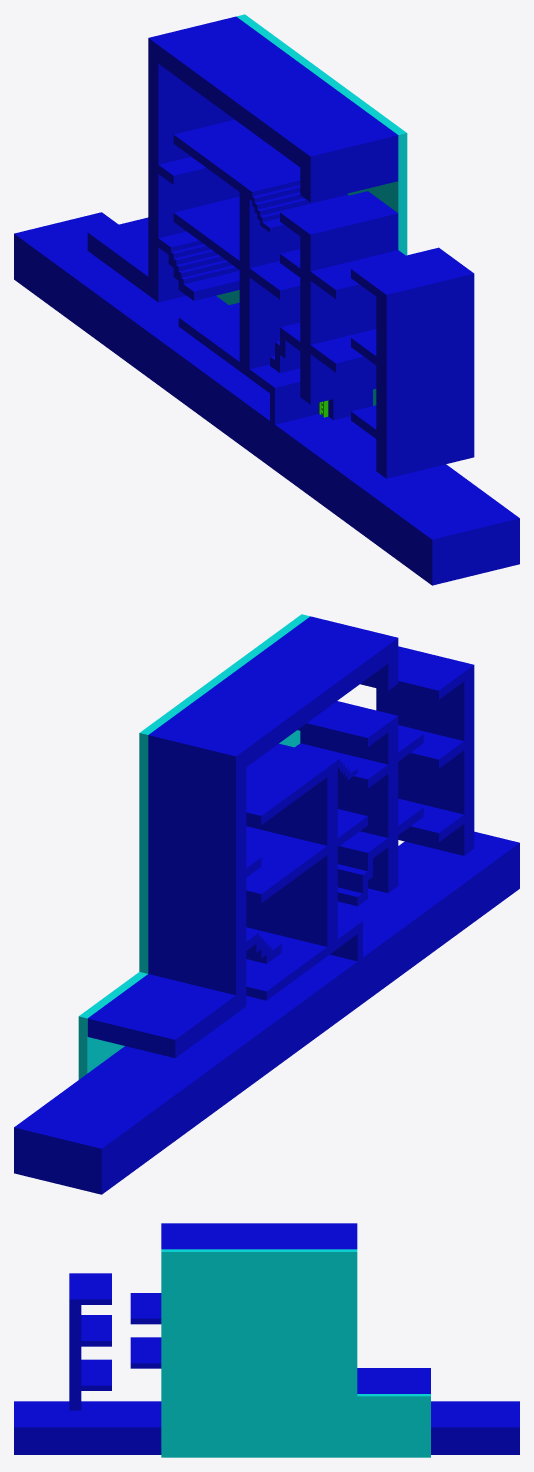
The model's file is Level_3_scene2_colored.fbx.
The picture shows the model from 3 angles, top to bottom: view 1: azimuth 30°, elevation 25°; view 2: azimuth 150°, elevation 25°; view 3: azimuth 270°, elevation 25°; orthographic projection. The views are drawn at different scales.
Visible parts, largest first — view 1: Cube.009, wall, Cube.010, Building1, Cube.007, Cube.001, Cube.006, Cube.011, Cube.008, Cube.005, Cube; view 2: wall, Cube.009, Building1, Cube.007, Cube.010, Cube.001, Cube.012, Cube.013, Cube.006; view 3: Cube.001, Cube.009, wall, Cube.010, Cube.008, Cube.011, Cube.013, Cube.012.
Part boxes in pixels (x1,y1,x2,y2): Cube.009: (14, 212, 519, 585); wall: (87, 16, 398, 302); Cube.010: (351, 247, 474, 478); Building1: (173, 119, 348, 385); Cube.007: (270, 191, 398, 404); Cube.001: (216, 14, 407, 405); Cube.006: (158, 231, 239, 300); Cube.011: (310, 250, 405, 298); Cube.008: (310, 329, 376, 372); Cube.005: (158, 156, 215, 184); Cube: (328, 389, 372, 420); wall: (87, 616, 398, 1057); Cube.009: (14, 831, 519, 1194); Building1: (246, 743, 367, 1000); Cube.007: (295, 701, 398, 906); Cube.010: (376, 646, 474, 855); Cube.001: (78, 614, 309, 1079); Cube.012: (398, 798, 464, 842); Cube.013: (398, 725, 464, 768); Cube.006: (246, 929, 281, 963); Cube.001: (161, 1249, 430, 1457); Cube.009: (14, 1401, 519, 1454); wall: (161, 1223, 430, 1393); Cube.010: (69, 1273, 111, 1410); Cube.008: (130, 1337, 161, 1368); Cube.011: (130, 1293, 161, 1324); Cube.013: (81, 1315, 111, 1346); Cube.012: (81, 1359, 111, 1390).
Bounding box in the file's own units: 1101 × 3700 × 8250.
